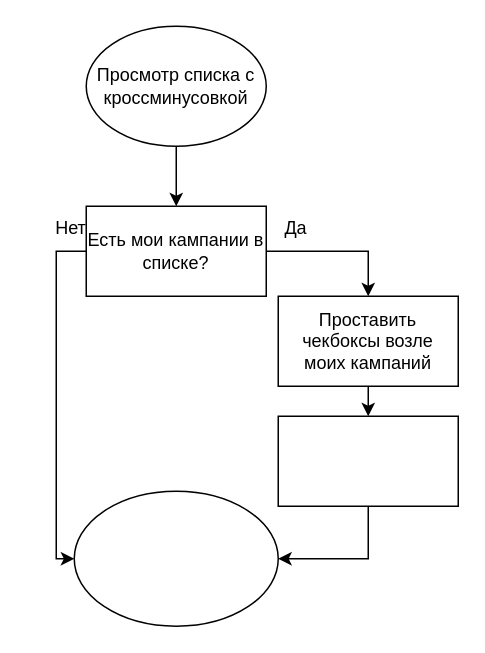
The diagram is 485 pixels wide and 653 high, and some of its shapes have lost their labels. The shapes that lost their labels are listed below. From the top down, each one's box as (x1, y1, x2, y2) in pixels, then its label:
(277, 415, 458, 506): Submit
(73, 490, 278, 626): Закончить работу со вкладкой
